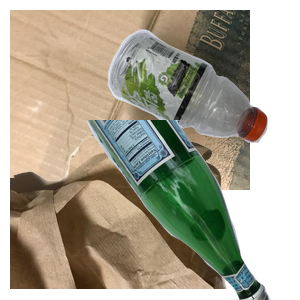cardboard: (10, 10, 250, 190)
glass: (75, 120, 300, 300)
plastic: (105, 27, 300, 162)
trash: (10, 120, 229, 300)
